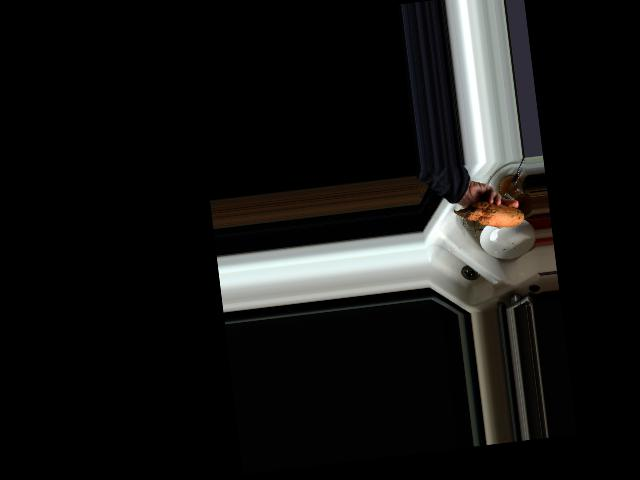sweet_potato: (452, 196, 525, 235)
